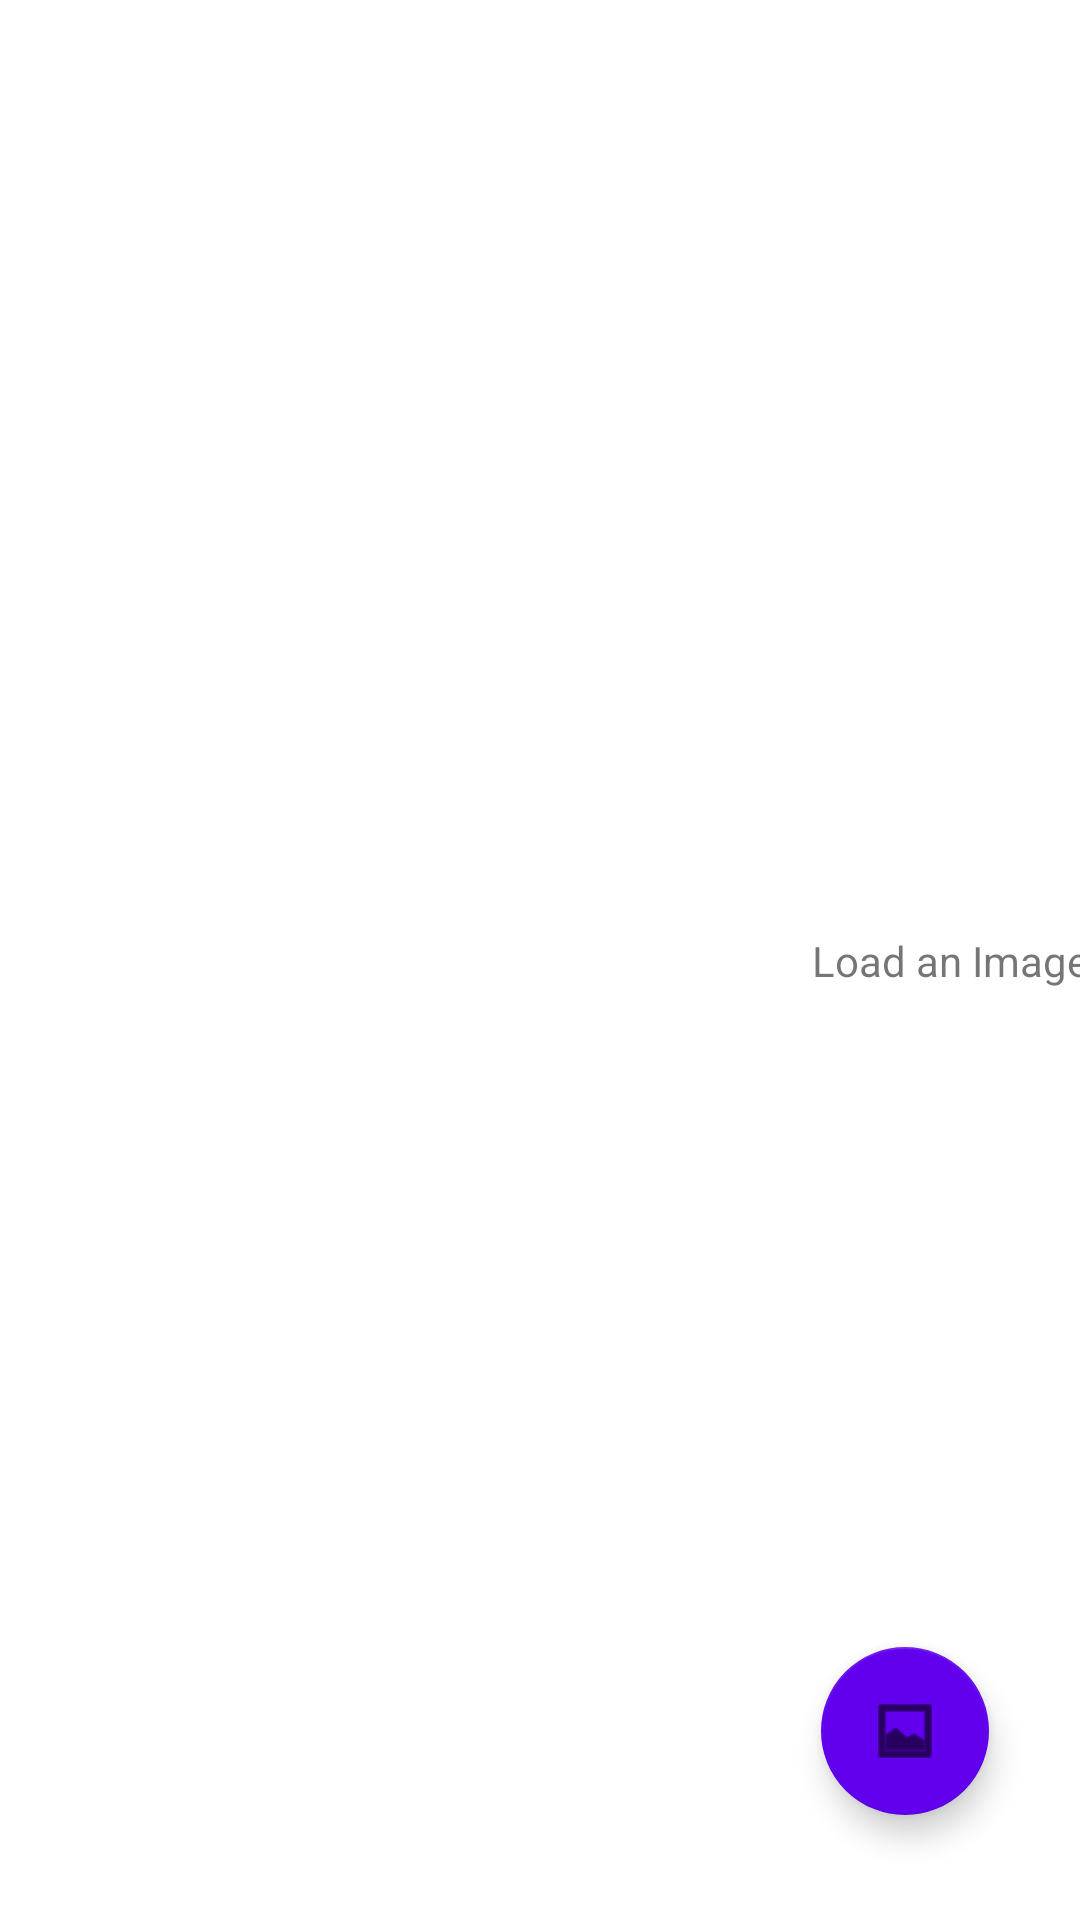

Where icons sit on this 1080 × 1920 app screen, as (x1, y1, x2, y2):
gallery: (821, 1647, 989, 1815)
